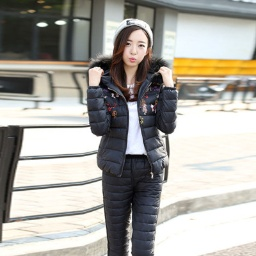face: (107, 26, 156, 83)
